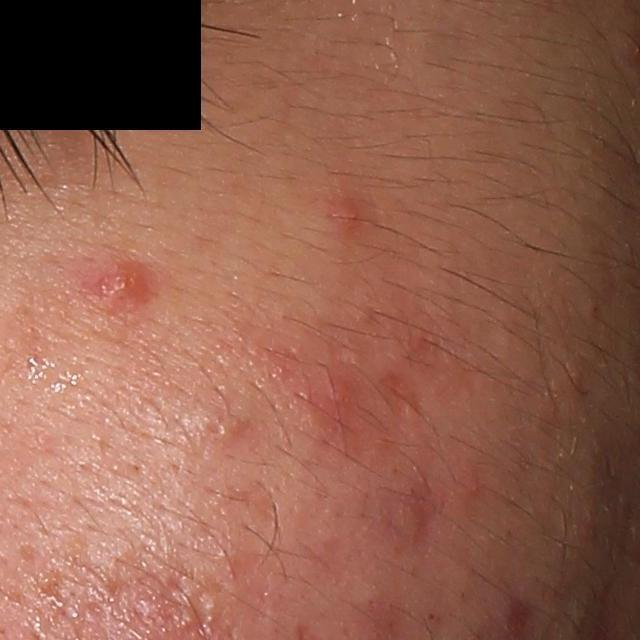papule: (84, 255, 151, 305), (323, 199, 372, 236)
